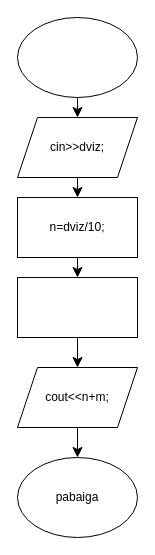
This 155x555 diagram has some shape labels left out. The shapes that lost their labels are listed below. From the top down, each one's centre as x and y in pixels, then its label:
pixel 77 57: pradzia
pixel 77 307: m=dviz%10;
